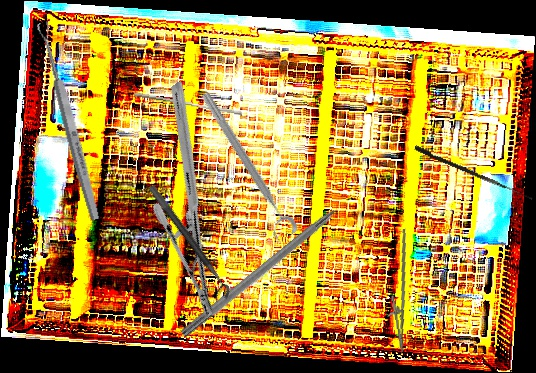Fixation Ring: (189, 89, 300, 244), (139, 184, 234, 305)
Hook Surgical: (179, 190, 360, 341), (413, 145, 535, 200)
Needle Holder: (80, 80, 305, 319), (378, 228, 419, 354)
Pusher: (132, 92, 244, 116)
Surgical Spoon: (35, 20, 103, 222)
